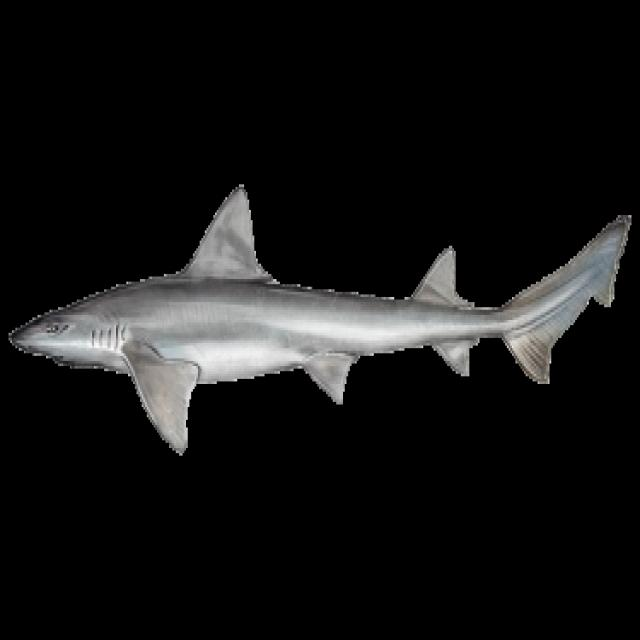gaviota: (9, 187, 630, 451)
